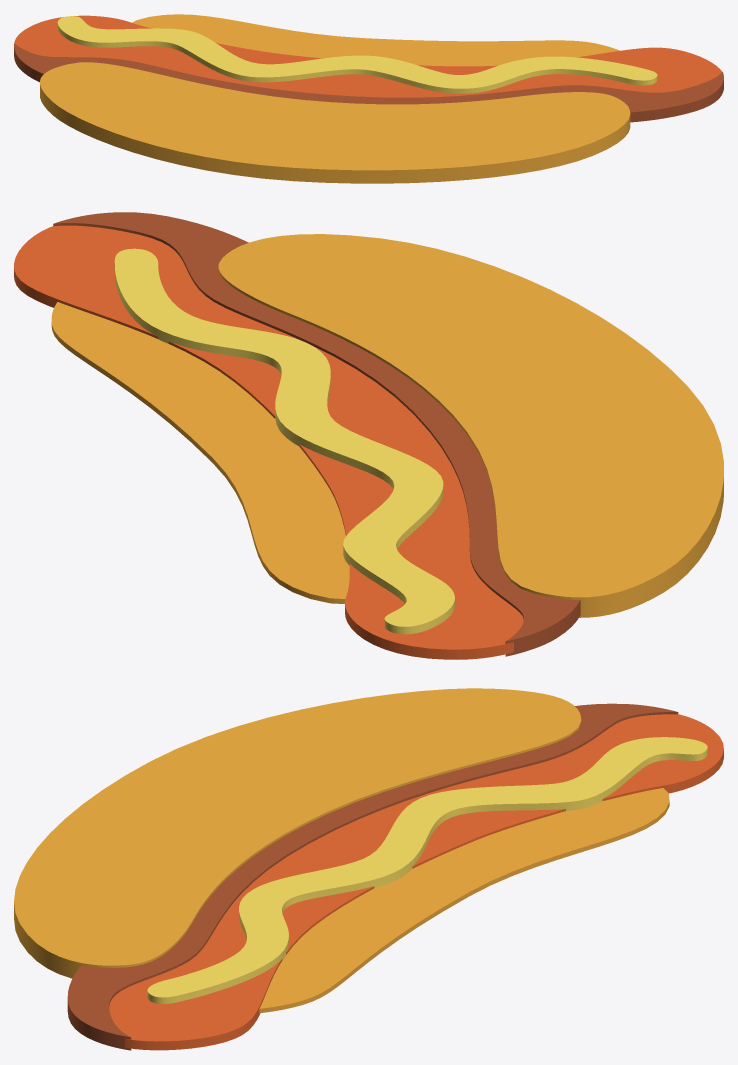
The model's file is emoji_u1f32d.glb.
3 views of the same model, one above another, from view 1: azimuth 30°, elevation 25°; view 2: azimuth 150°, elevation 25°; view 3: azimuth 270°, elevation 25° (orthographic). The views are drawn at different scales.
Parts seen in each view (by area): view 1: emoji_u1f32d; view 2: emoji_u1f32d; view 3: emoji_u1f32d.
Part boxes in pixels (x1,y1,x2,y2): emoji_u1f32d: (14, 14, 723, 183); emoji_u1f32d: (14, 212, 723, 659); emoji_u1f32d: (14, 688, 723, 1050).
Bounding box in the file's own units: 0.0338 × 0.001 × 0.0291.
